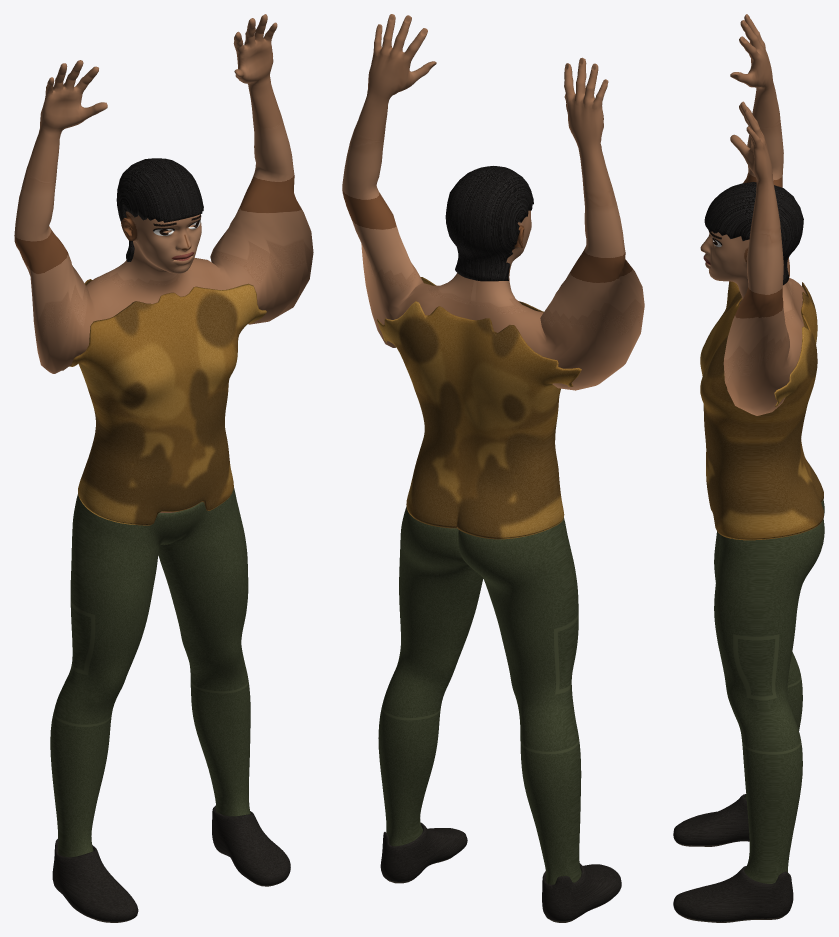
Rendered from 13-charB-prone.glb.
3 renders of one model, left to right at view 1: azimuth 30°, elevation 25°; view 2: azimuth 150°, elevation 25°; view 3: azimuth 270°, elevation 25°, orthographic. The views are drawn at different scales.
Visible parts, largest first — view 1: pants, Human, shirt, shoes, hair; view 2: pants, Human, shirt, hair, shoes; view 3: pants, shirt, Human, shoes, hair.
Part boxes in pixels (box(x1,y1,x2,y2)): pants: box(50, 487, 250, 857); Human: box(14, 14, 313, 512); shirt: box(69, 279, 266, 525); shoes: box(52, 805, 290, 922); hair: box(116, 158, 203, 261); pants: box(378, 506, 581, 884); Human: box(342, 14, 644, 390); shirt: box(377, 277, 581, 539); hair: box(445, 166, 533, 281); shoes: box(380, 822, 621, 922); pants: box(714, 499, 824, 883); shirt: box(700, 281, 823, 540); Human: box(700, 14, 806, 415); shoes: box(673, 794, 793, 922); hair: box(704, 182, 803, 285).
Size of the model in its own units: 0.6833 by 1.98 by 0.3322.
Materials: 5 (5 with a texture image).
